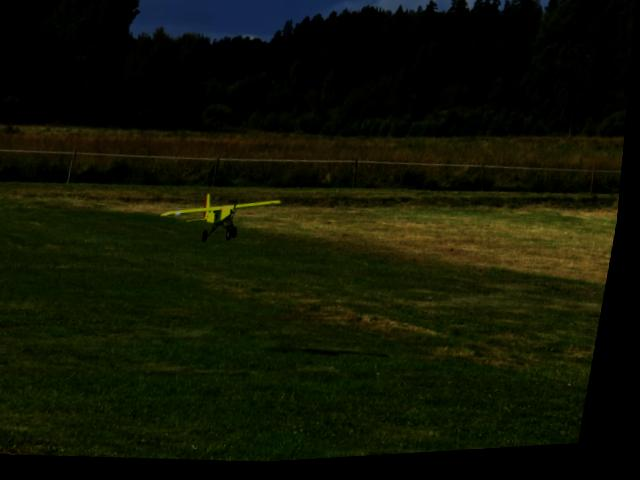plane: (159, 186, 288, 253)
